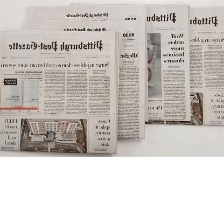news_paper: (4, 0, 193, 124), (18, 18, 149, 144), (0, 28, 119, 156), (151, 4, 223, 131)
